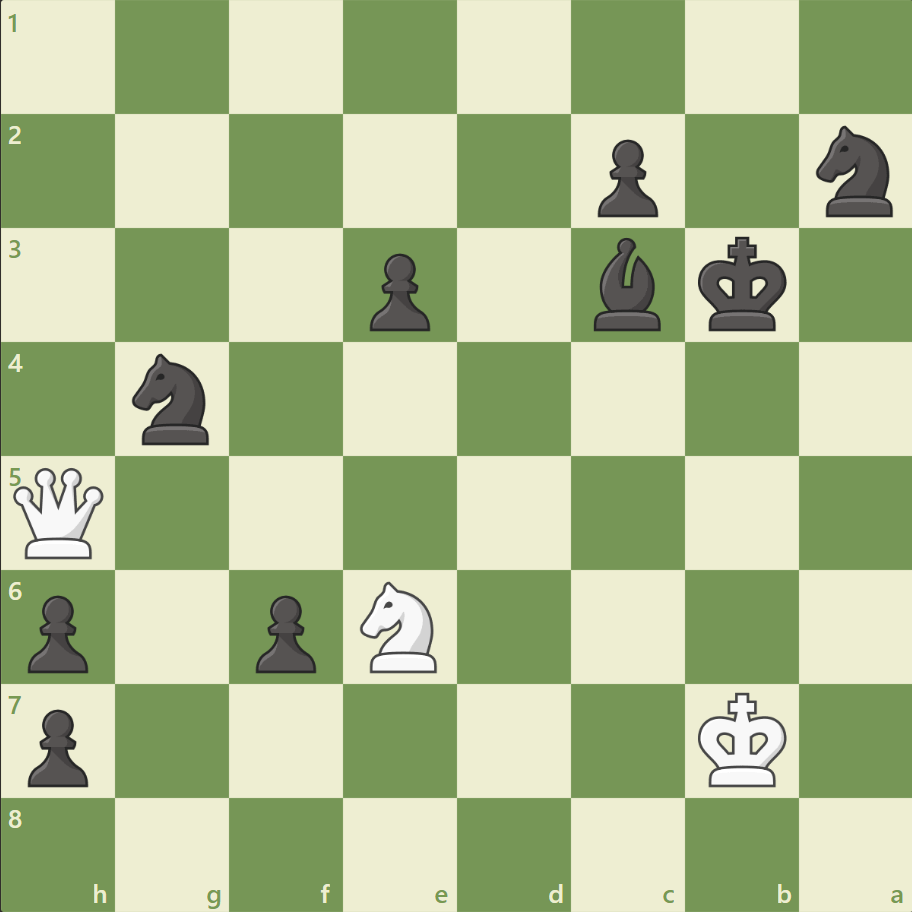K: (692, 685, 792, 793)
N: (351, 575, 449, 677)
Q: (10, 463, 109, 562)
b: (585, 233, 669, 336)
k: (692, 231, 792, 339)
n: (124, 348, 222, 450), (806, 121, 903, 223)
p: (20, 700, 95, 791), (247, 586, 322, 677), (20, 586, 95, 677), (361, 246, 435, 337), (588, 132, 662, 223)
